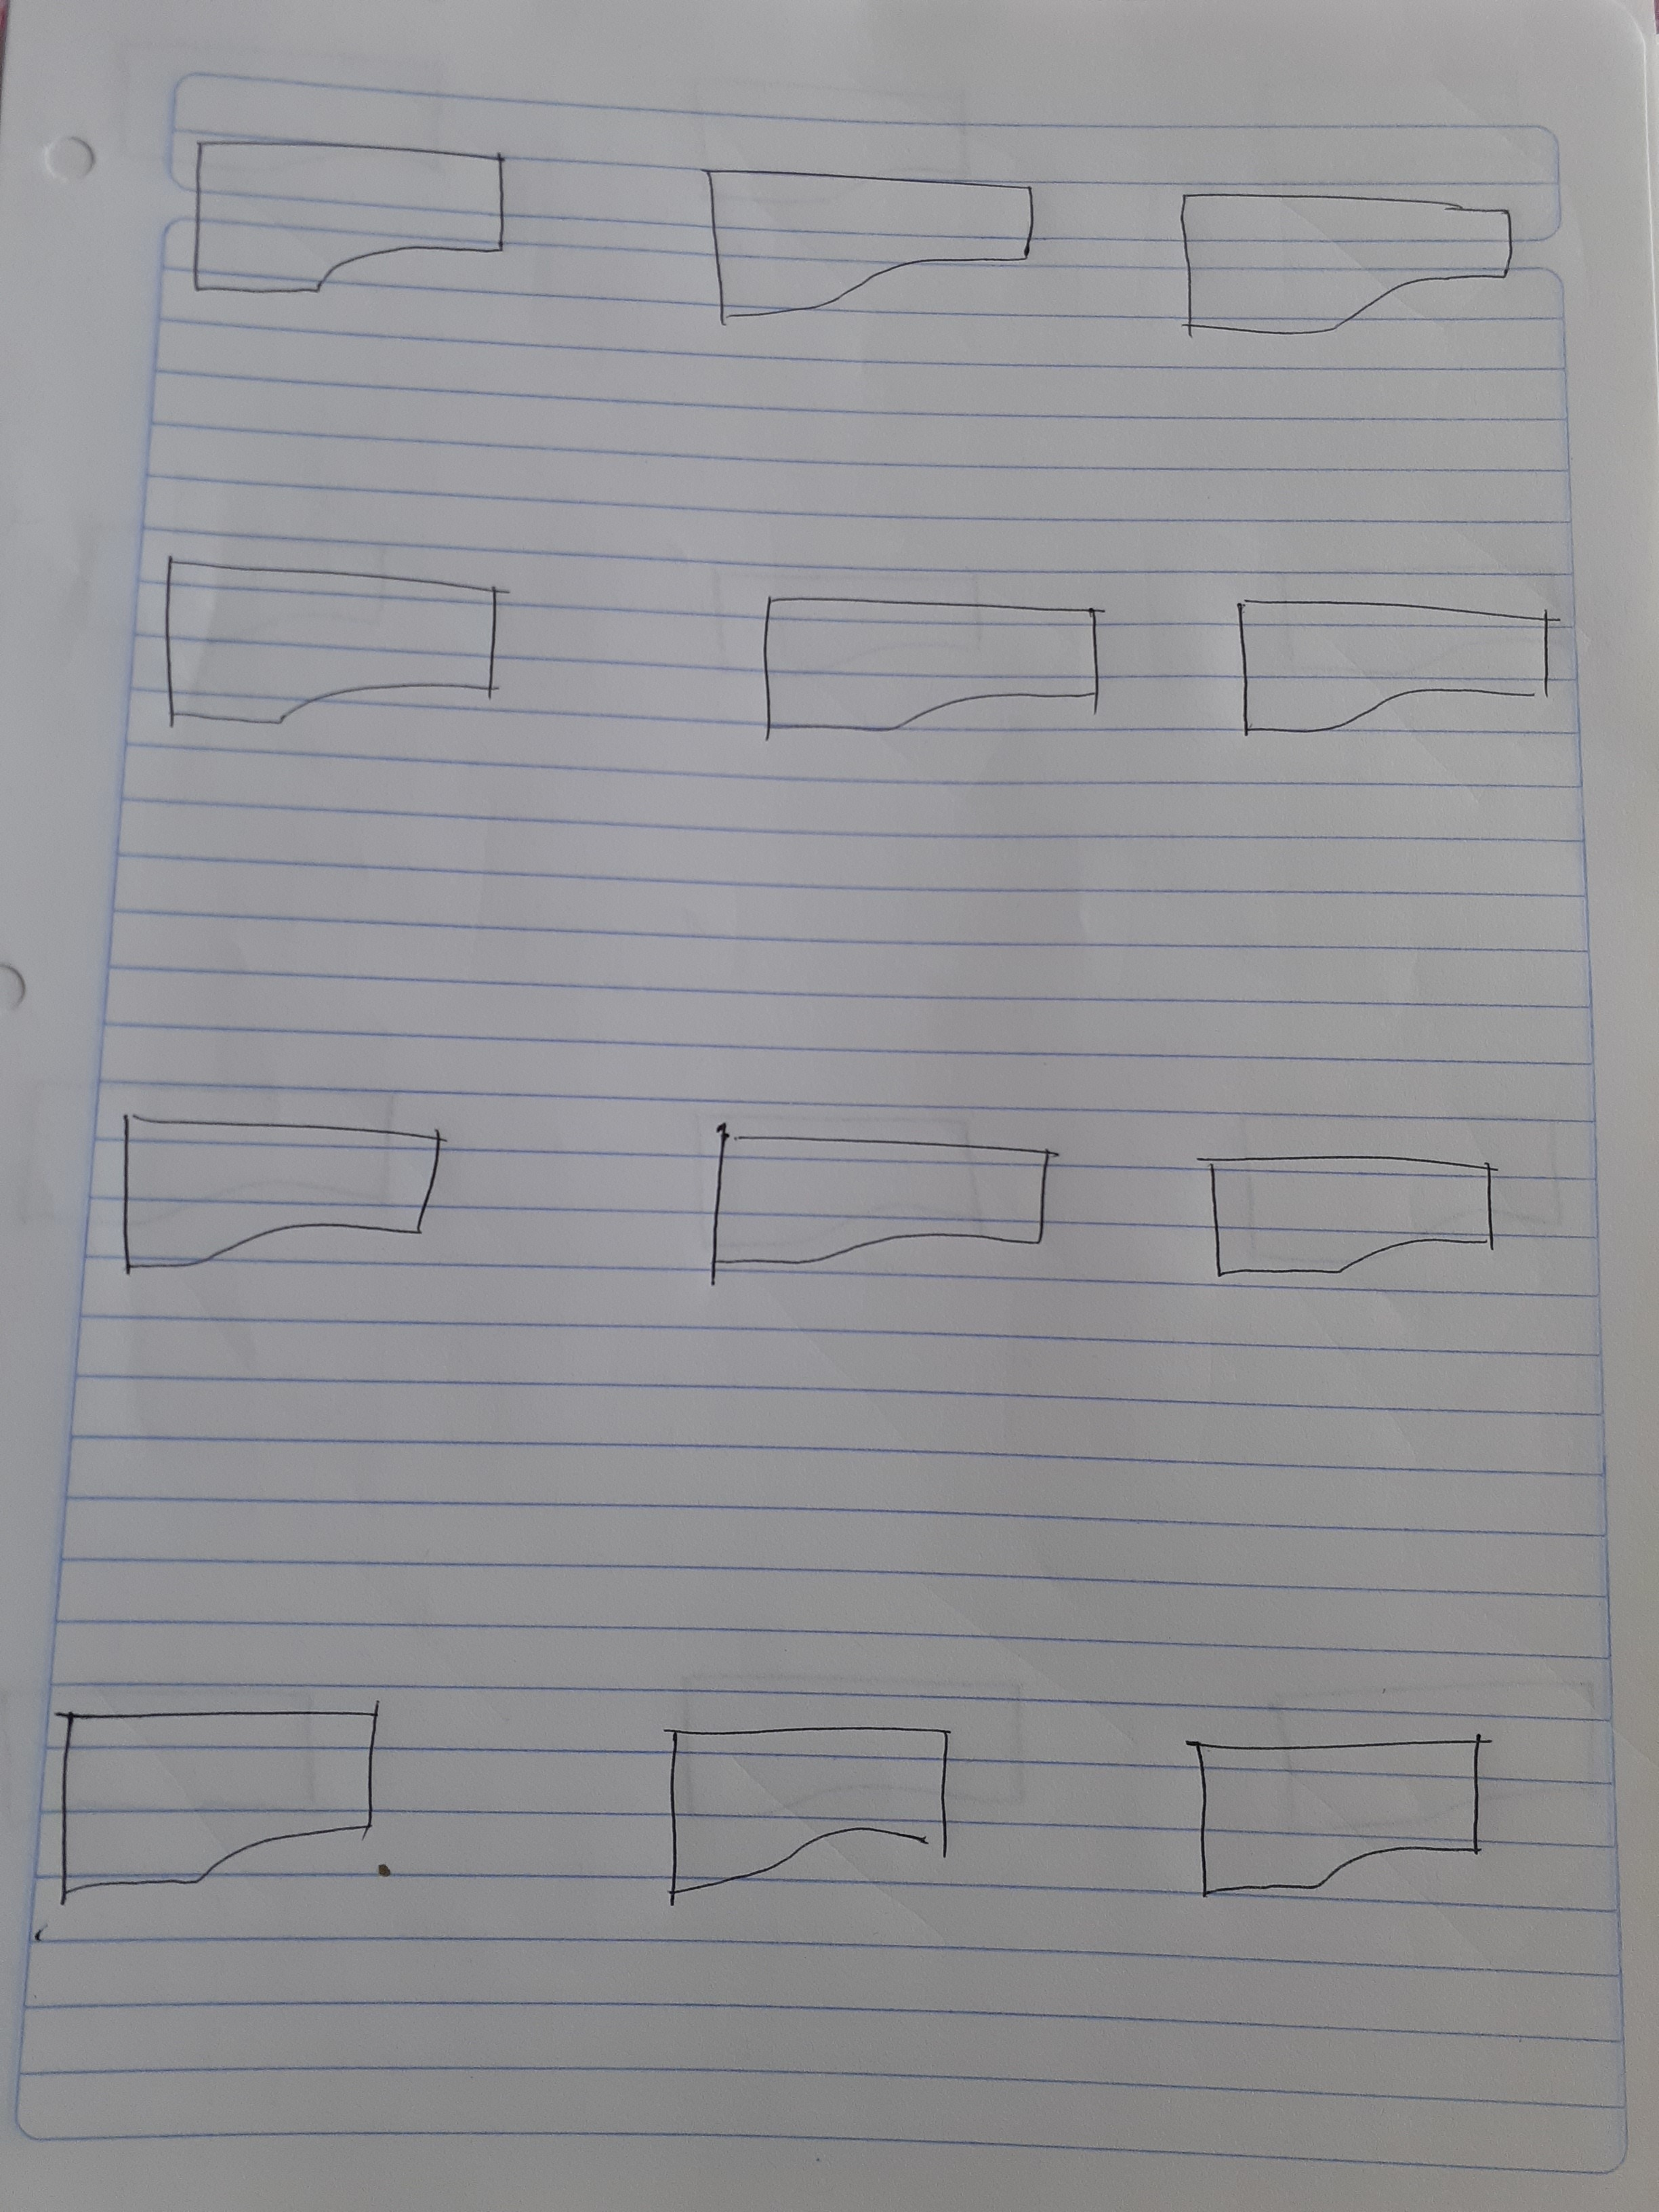print: (143, 503, 544, 780), (1143, 1689, 1532, 1956), (688, 1092, 1089, 1336), (35, 1665, 422, 1912), (634, 1683, 969, 1963), (732, 543, 1119, 784), (96, 1075, 469, 1320), (1211, 557, 1582, 780), (1166, 143, 1542, 361), (678, 141, 1072, 340), (1180, 1103, 1532, 1324), (179, 110, 530, 329)
